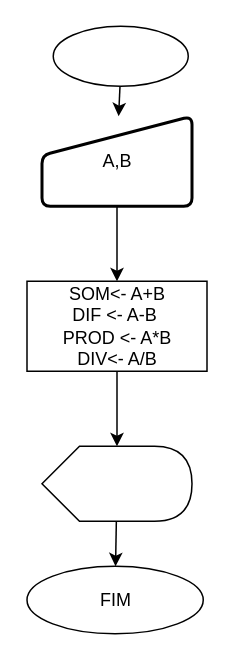
Some shapes in this 233 by 660 pixel diagram are drawn without their labels. The centre of each missing label's shape, as x and y in pixels:
INICIO: (120,55)
SOM, DIF, PROD, DIV: (116,483)
